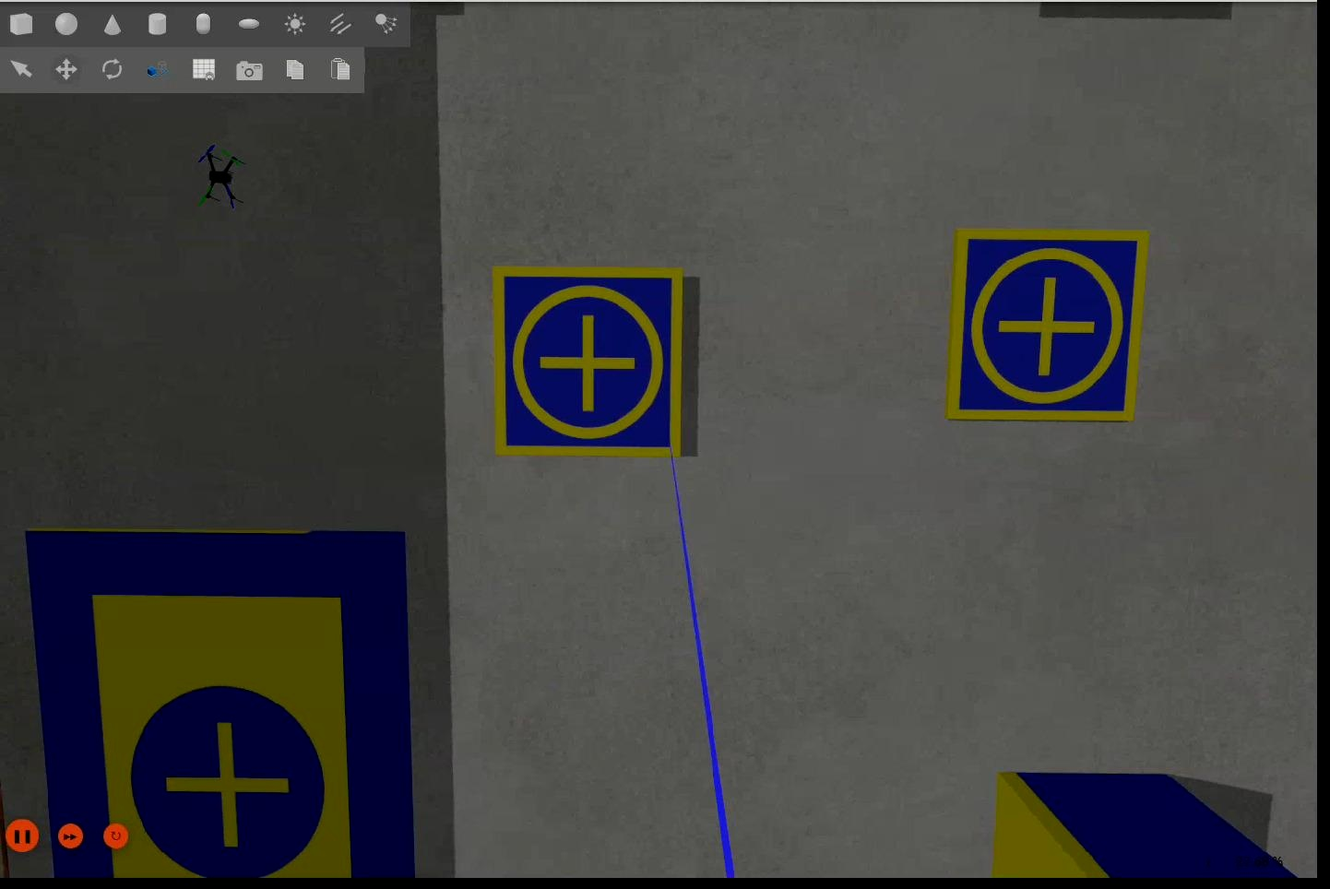large_base: (22, 525, 410, 889)
small_base: (941, 225, 1152, 426), (488, 262, 693, 461)
